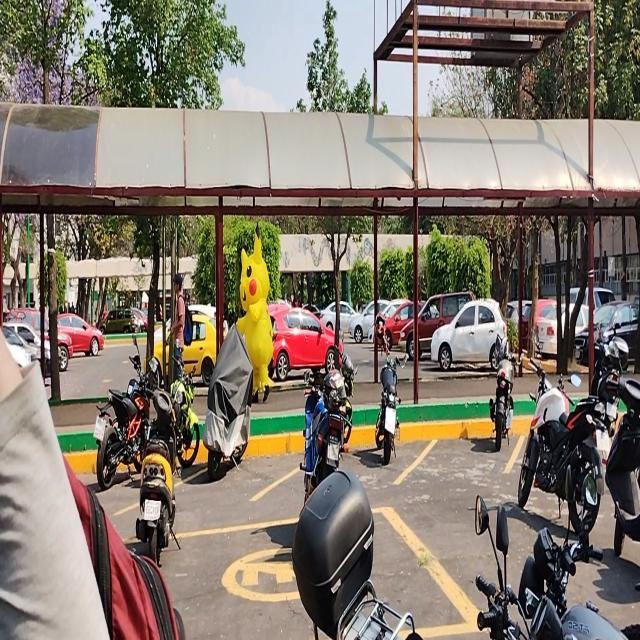adult: (170, 274, 184, 376)
